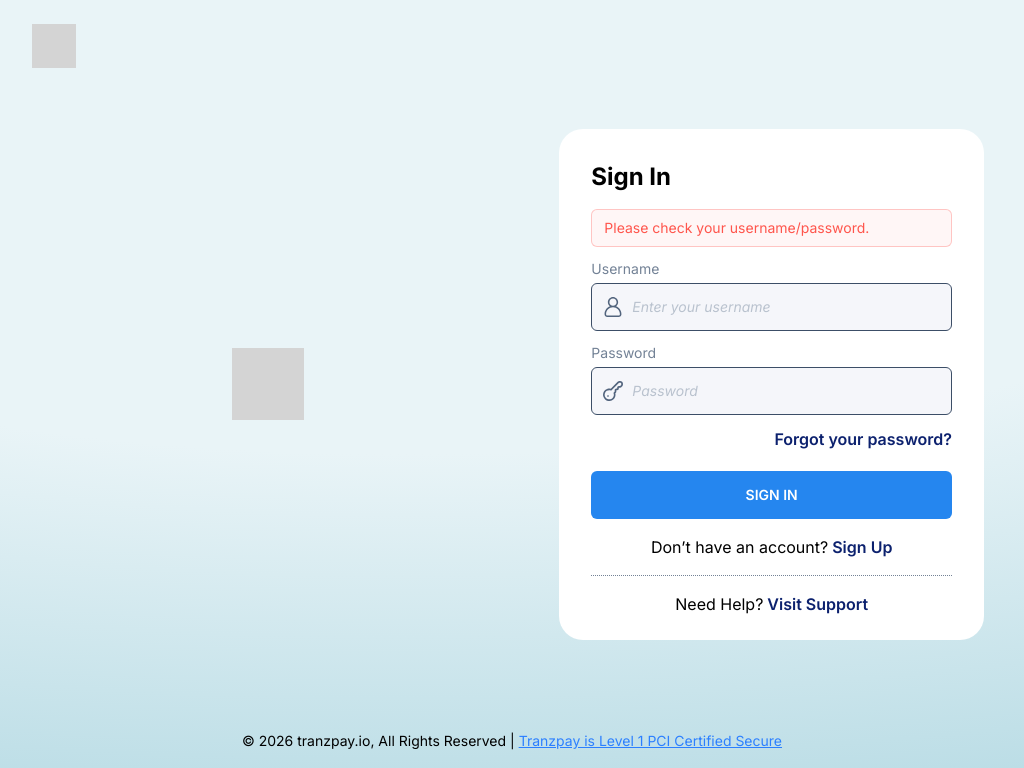
LoginPage › lockout UI › warns on the last remaining attempt before lockout
Type "test.user@example.com" into the field with placeholder "Enter your username".
click(772, 306); type("test.user@example.com")  # box [591, 282, 952, 330]
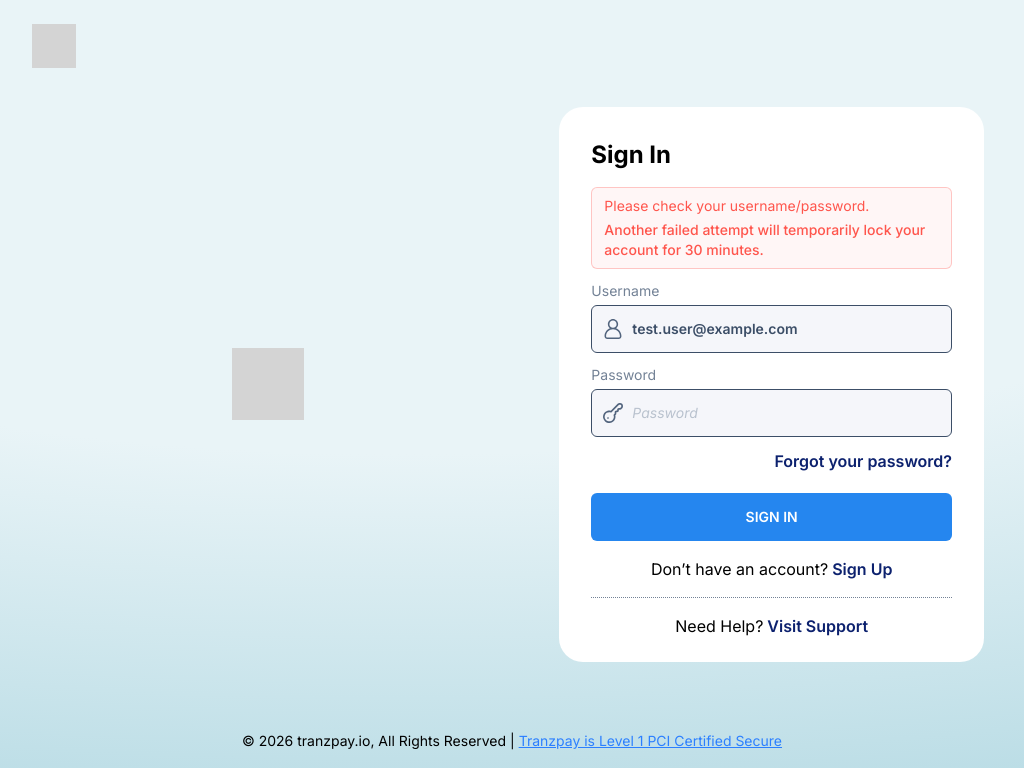
Check: the text "Please check your username/password." is shown, box [604, 196, 869, 214]
Check: the text "Another failed attempt will temporarily lock your account for 30 minutes." is shown, box [604, 220, 939, 260]
